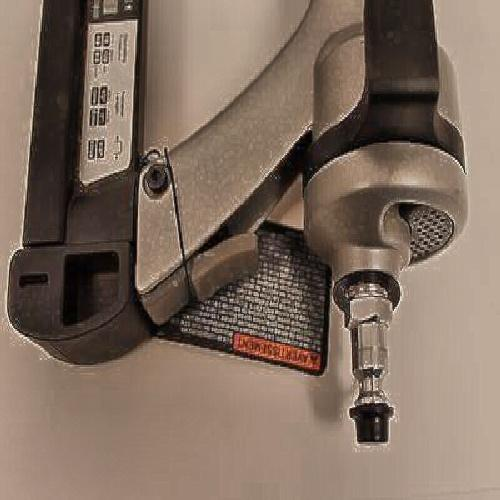stapler: (33, 19, 450, 418)
